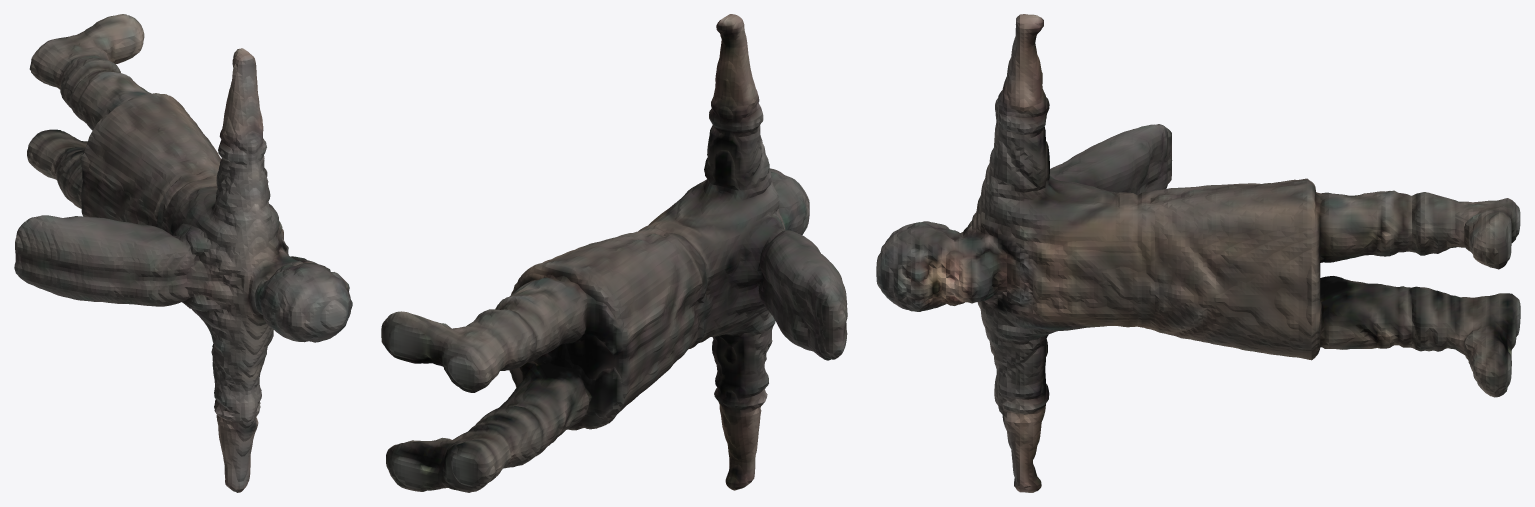
Rendered from smitty.glb.
3 views of the same model, side by side, from view 1: azimuth 30°, elevation 25°; view 2: azimuth 150°, elevation 25°; view 3: azimuth 270°, elevation 25° (orthographic). The views are drawn at different scales.
Visible parts, largest first — view 1: geometry_0; view 2: geometry_0; view 3: geometry_0.
Boxes of the visible parts, x1,y1,x2,y2 form: geometry_0: [14, 14, 352, 492]; geometry_0: [381, 14, 847, 492]; geometry_0: [876, 14, 1520, 492].
Bounding box in the file's own units: 0.5553 × 0.8316 × 1.01.
